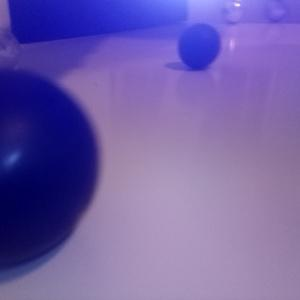alive_ball: (1, 29, 21, 71), (263, 1, 289, 21), (222, 1, 243, 23)
dead_ball: (1, 70, 99, 270), (178, 23, 220, 66)
